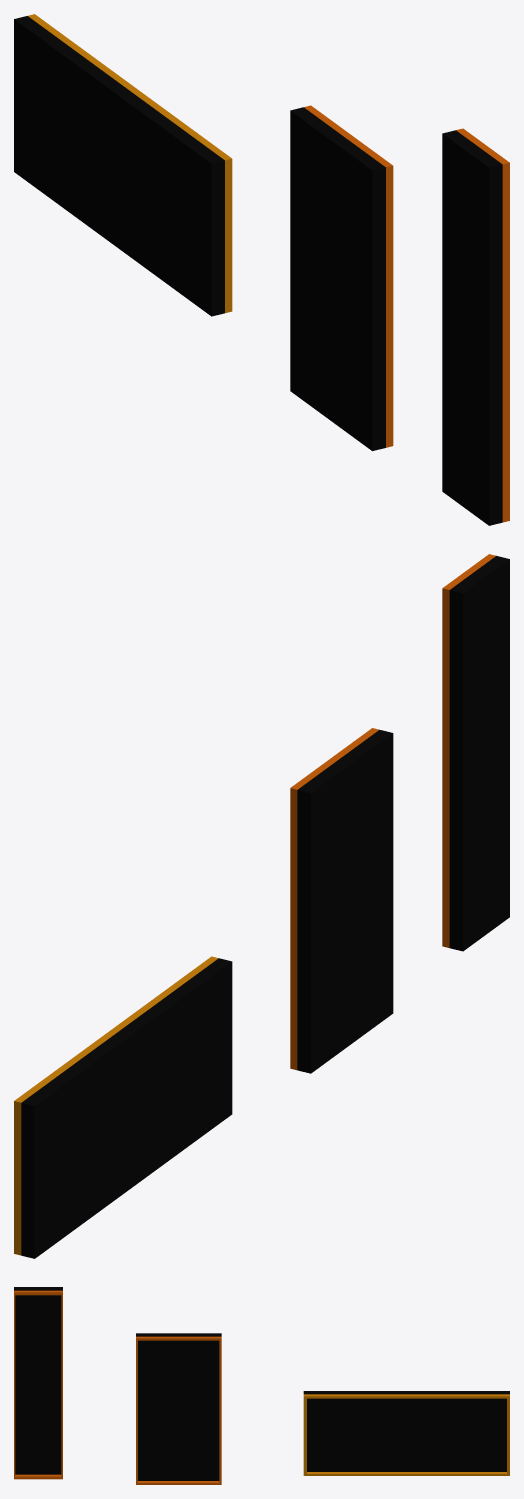
File: Signs simple purple.fbx
3 views of the same model, one above another, from view 1: azimuth 30°, elevation 25°; view 2: azimuth 150°, elevation 25°; view 3: azimuth 270°, elevation 25° (orthographic). The views are drawn at different scales.
Visible parts, largest first — view 1: Cube.002 (×2), Cube (×2), Cube.001 (×2); view 2: Cube.002 (×2), Cube (×2), Cube.001 (×2); view 3: Cube.002 (×2), Cube (×2), Cube.001 (×2).
Boxes of the visible parts, x1,y1,x2,y2 form: Cube.002 (×2): (14, 14, 232, 316); Cube (×2): (290, 105, 393, 450); Cube.001 (×2): (442, 128, 509, 525); Cube.002 (×2): (14, 956, 232, 1258); Cube (×2): (290, 728, 393, 1073); Cube.001 (×2): (442, 554, 509, 951); Cube.002 (×2): (303, 1391, 509, 1475); Cube (×2): (136, 1333, 221, 1484); Cube.001 (×2): (14, 1287, 62, 1479).
Size of the model in its own units: 36.62 by 620 by 1447.
